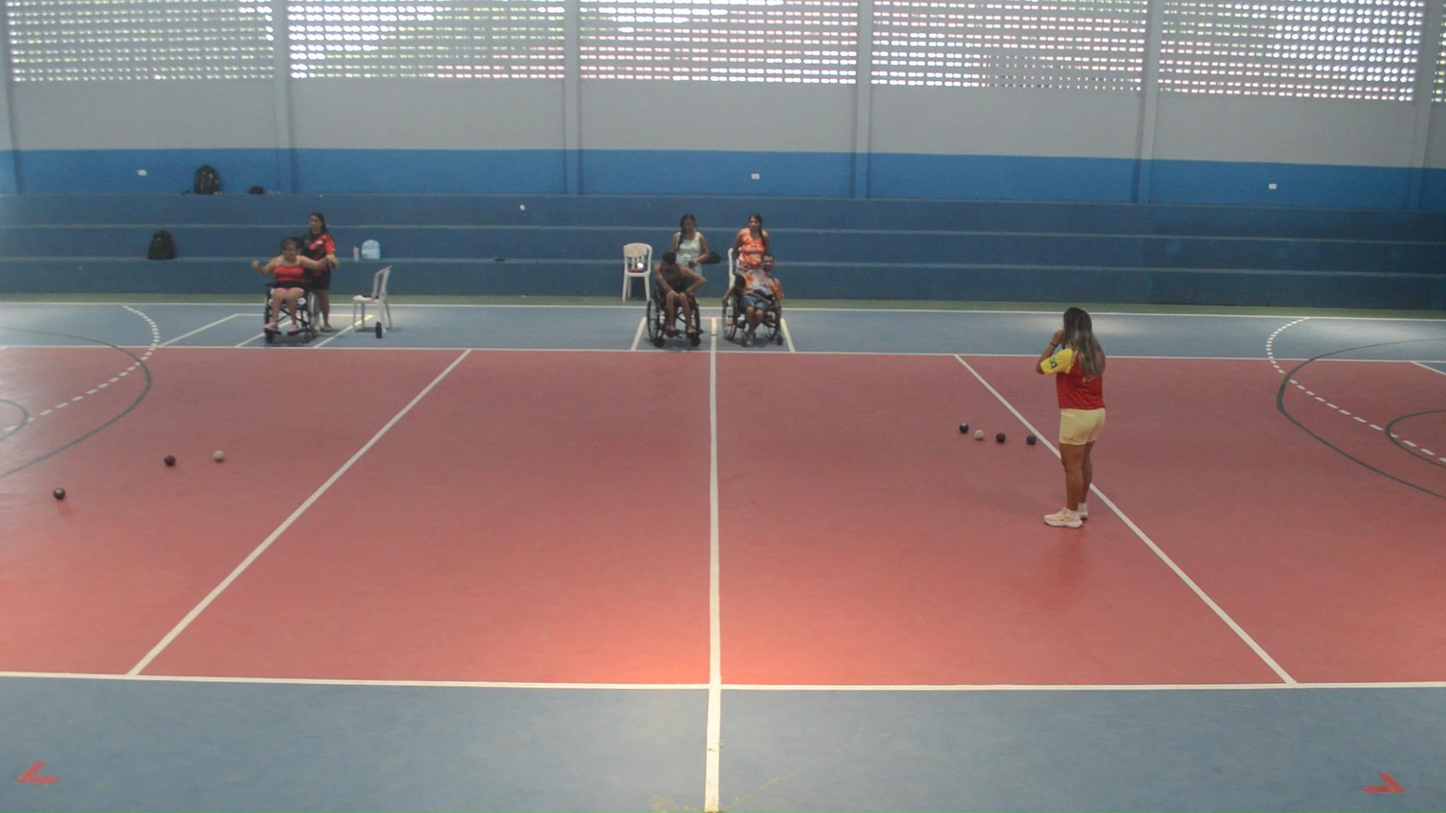blue_ball: (958, 421, 969, 434), (1026, 434, 1037, 445)
red_ball: (53, 487, 66, 500), (164, 454, 176, 466), (995, 432, 1006, 443)
white_ball: (213, 450, 225, 462), (974, 428, 985, 441)
